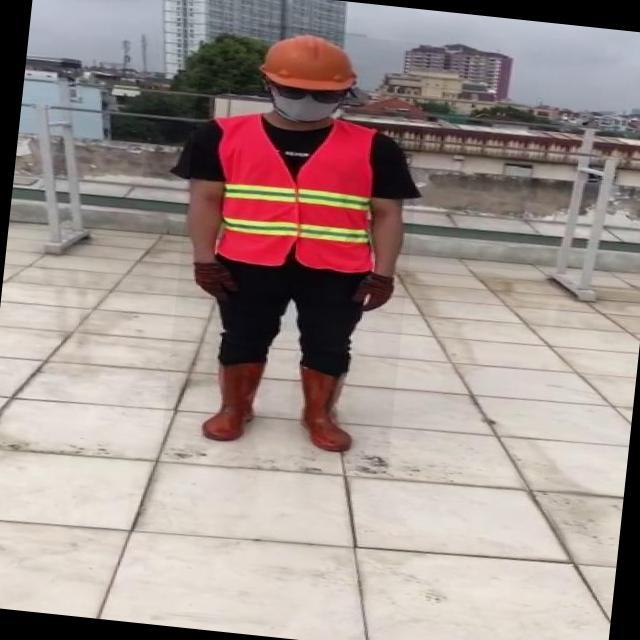Gloves: (188, 261, 242, 303), (348, 272, 397, 315)
Helmet: (253, 23, 367, 97)
Human: (161, 21, 432, 468)
Safety Boot: (289, 366, 361, 455), (200, 355, 263, 446)
Safety Vest: (204, 108, 385, 277)
